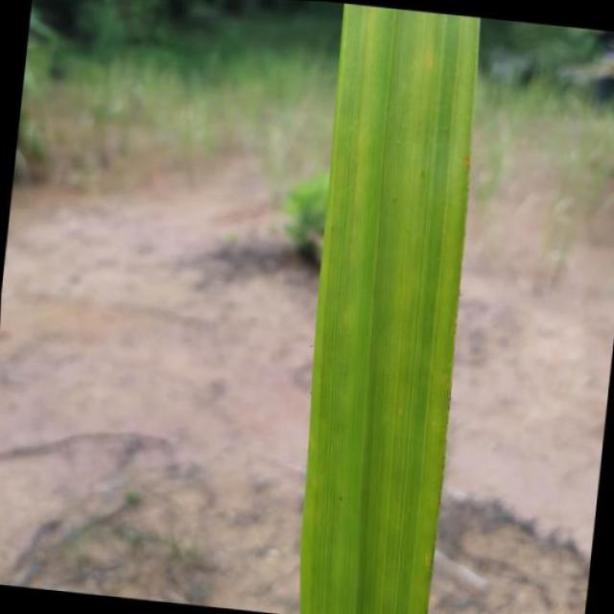nitrogen: (304, 0, 476, 614)
